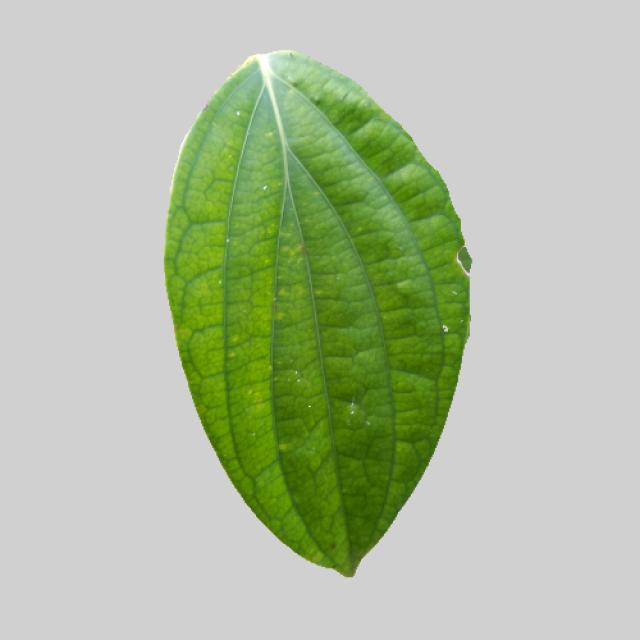healthy: (156, 50, 479, 583)
